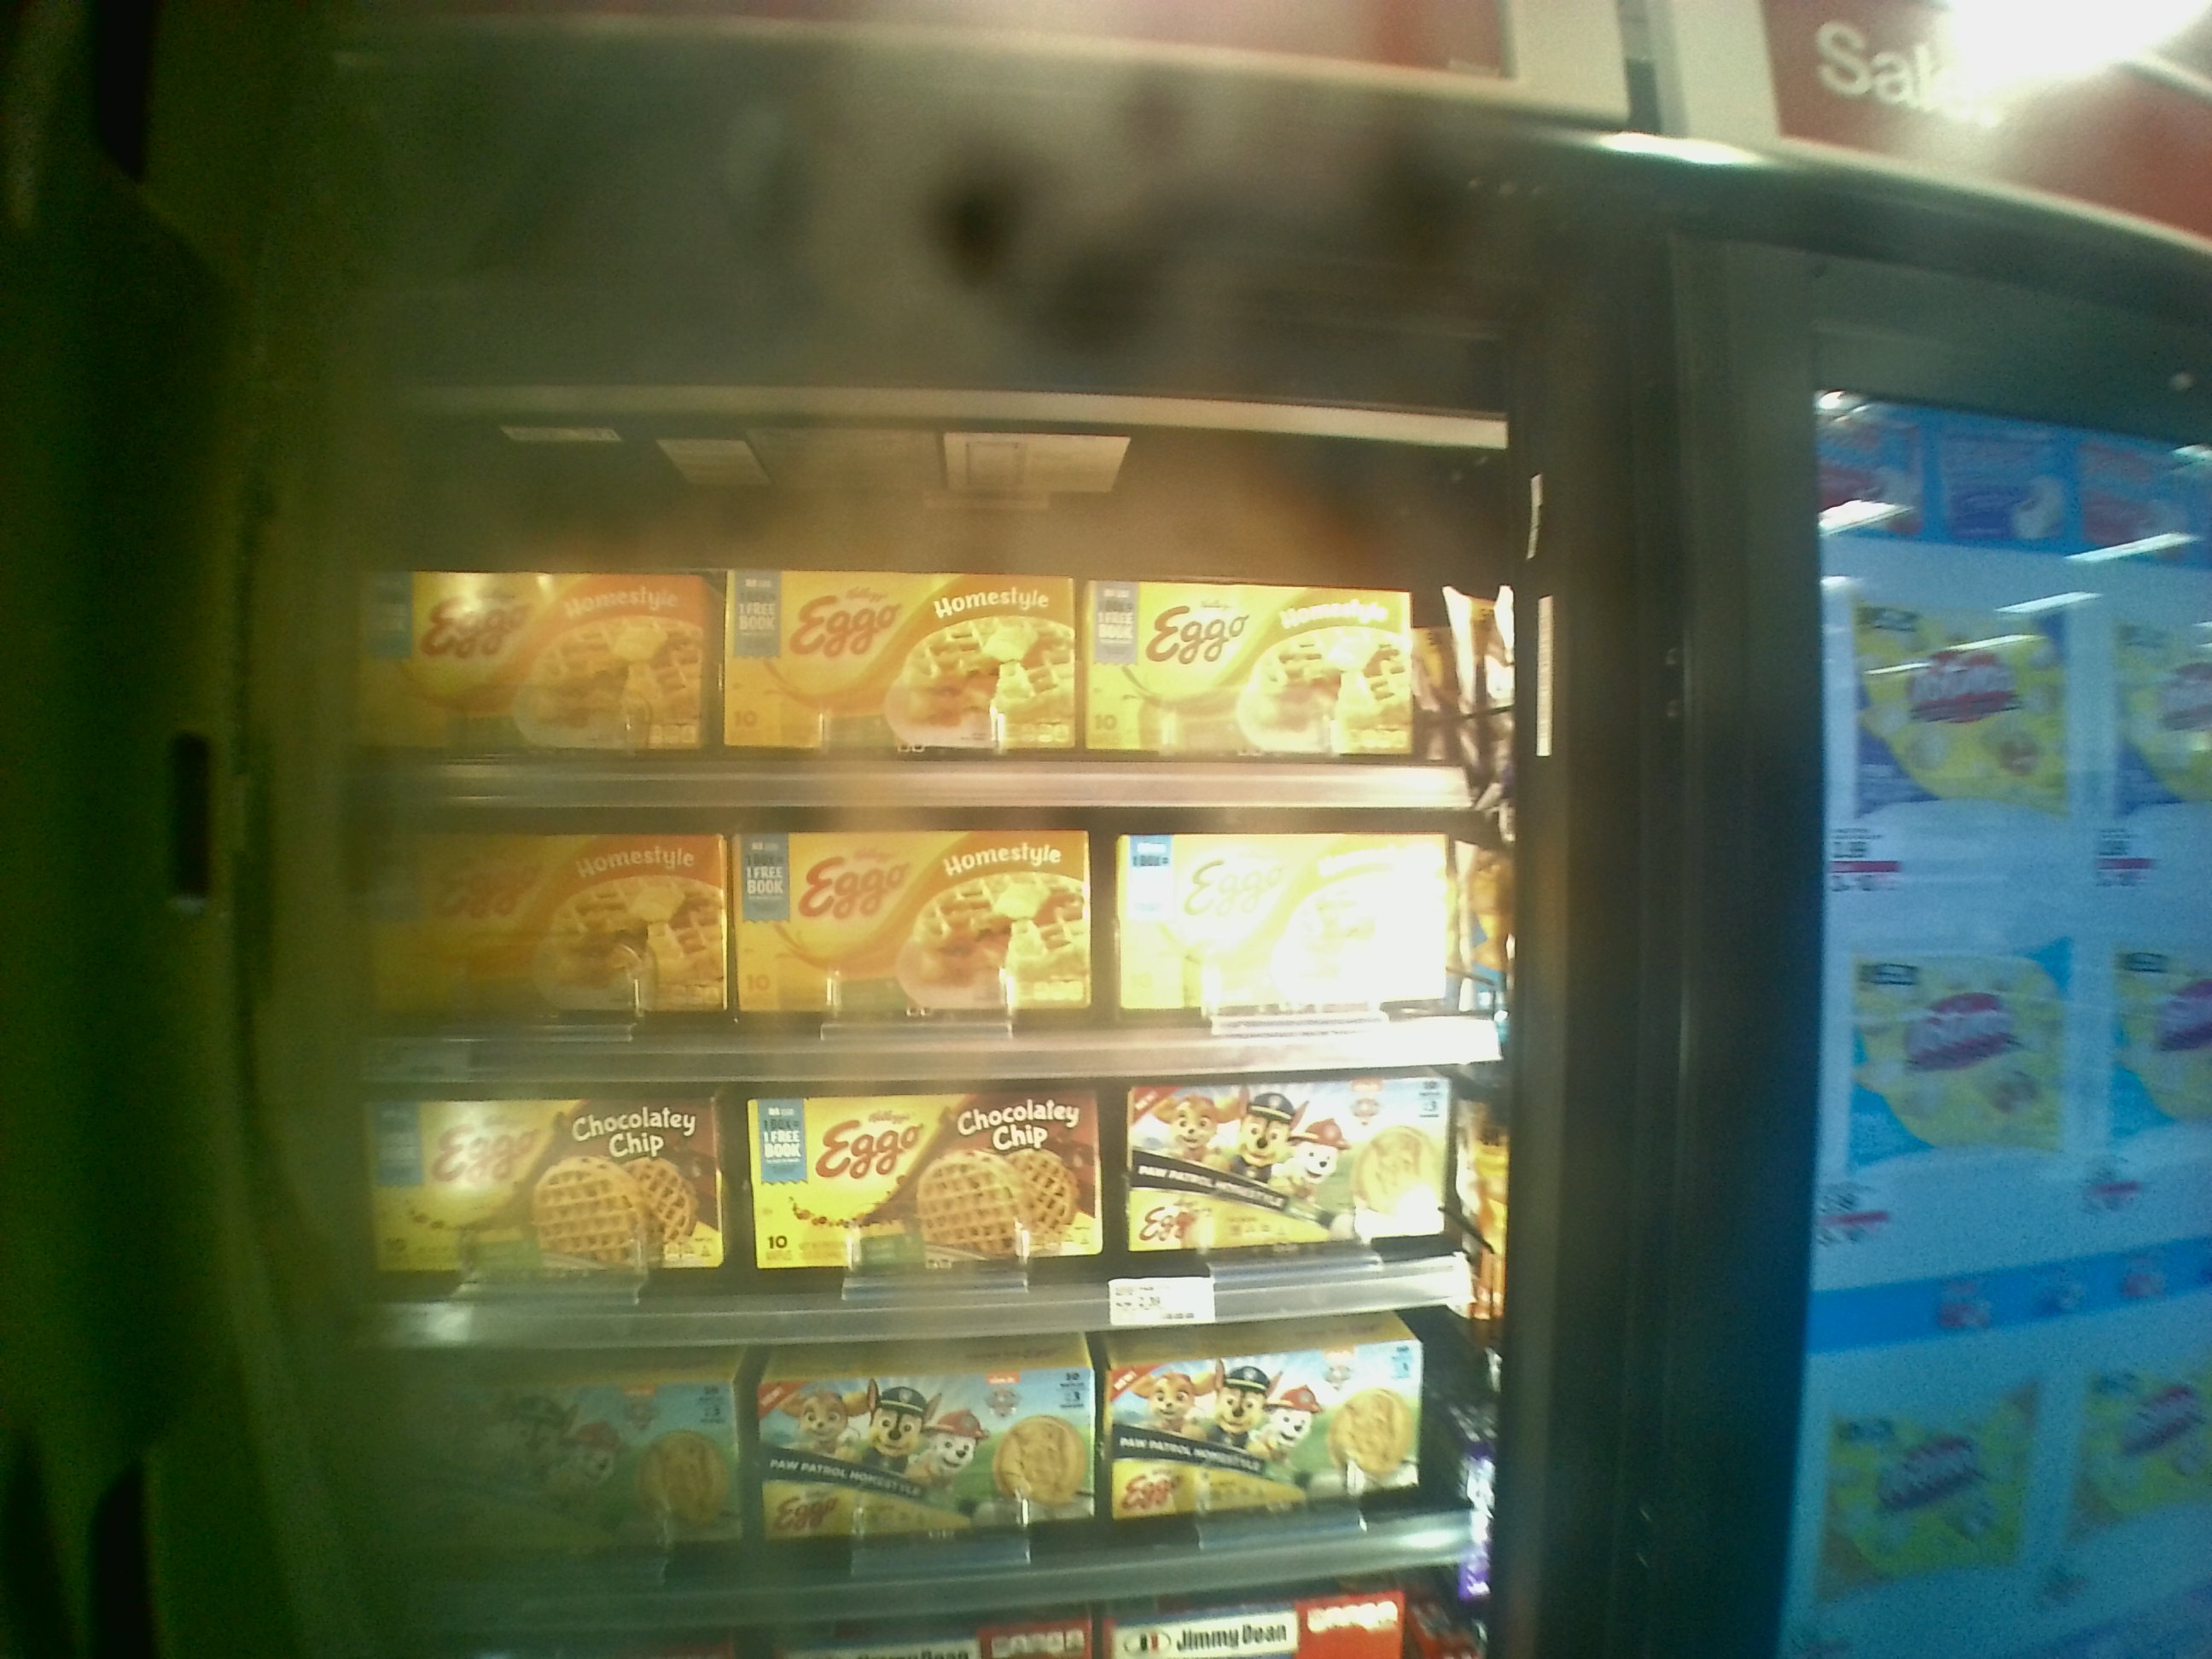shelf: (374, 1060, 1479, 1349)
